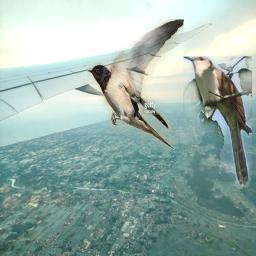Cuckoo: (183, 56, 252, 186)
Swallow: (87, 19, 184, 149)
